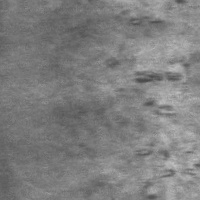rolled-in_scale: (126, 61, 200, 197), (115, 0, 188, 33)
